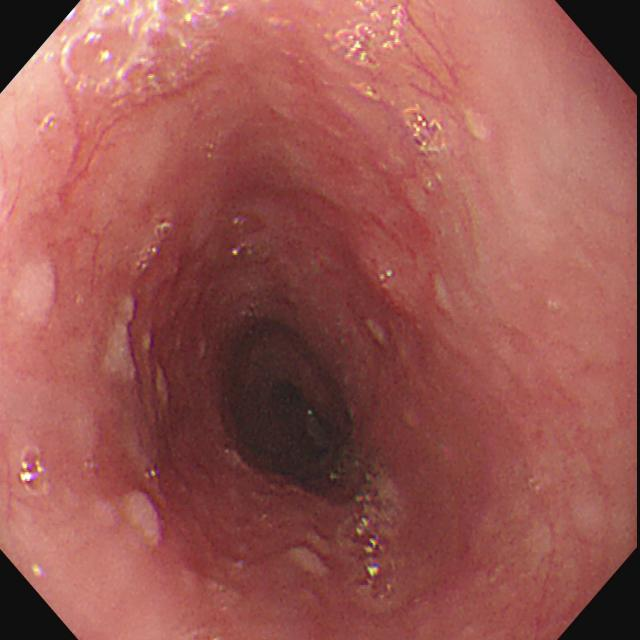E: (198, 307, 380, 521)
J: (95, 292, 177, 410), (8, 250, 69, 338), (116, 483, 172, 560)
T: (58, 2, 233, 106), (338, 467, 402, 608), (325, 2, 409, 104), (404, 104, 448, 161), (132, 220, 172, 281), (18, 443, 54, 501), (39, 108, 61, 140)
